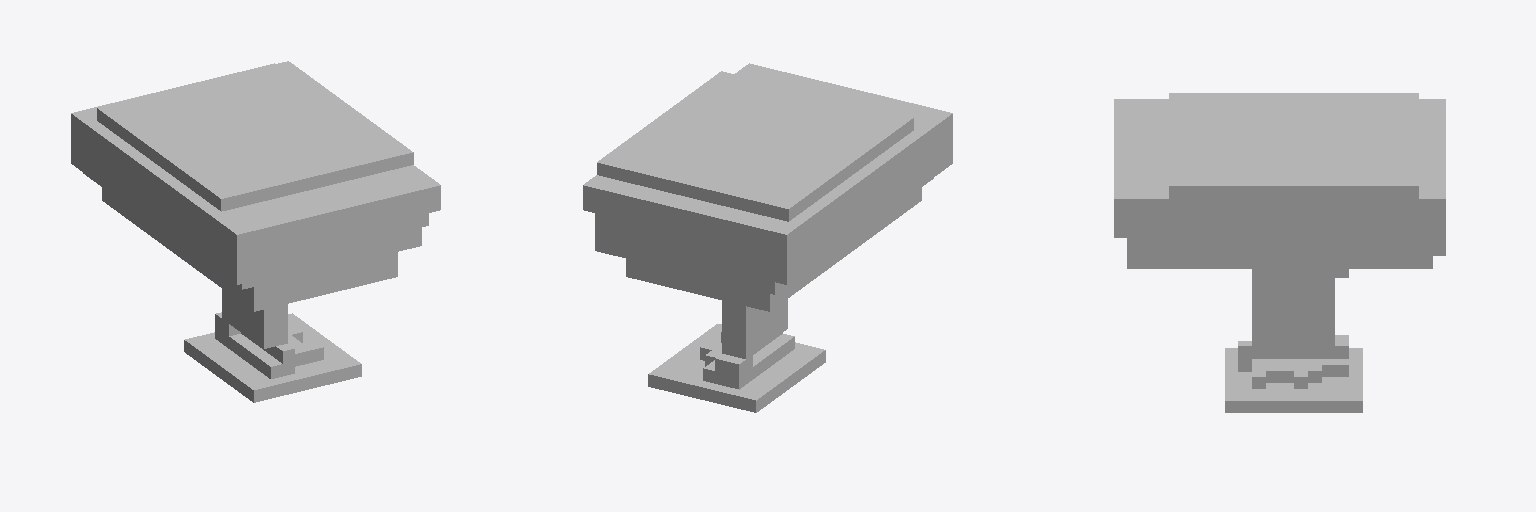
File: tree4.obj
3 views of the same model, side by side, from view 1: azimuth 30°, elevation 25°; view 2: azimuth 150°, elevation 25°; view 3: azimuth 270°, elevation 25° (orthographic).
Visible parts, largest first — view 1: object 1; view 2: object 1; view 3: object 1.
Boxes of the visible parts, x1=… form: object 1: x1=71, y1=61, x2=440, y2=402; object 1: x1=583, y1=63, x2=952, y2=412; object 1: x1=1114, y1=93, x2=1445, y2=412.
Bounding box in the file's own units: 1.7 × 1.9 × 2.4.